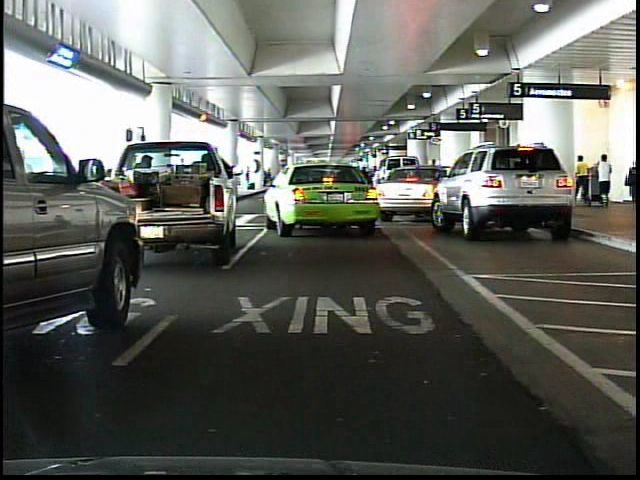person: (596, 152, 613, 207), (577, 150, 593, 207), (622, 159, 636, 210)
